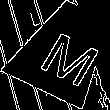M_NE: (29, 17, 100, 83)
